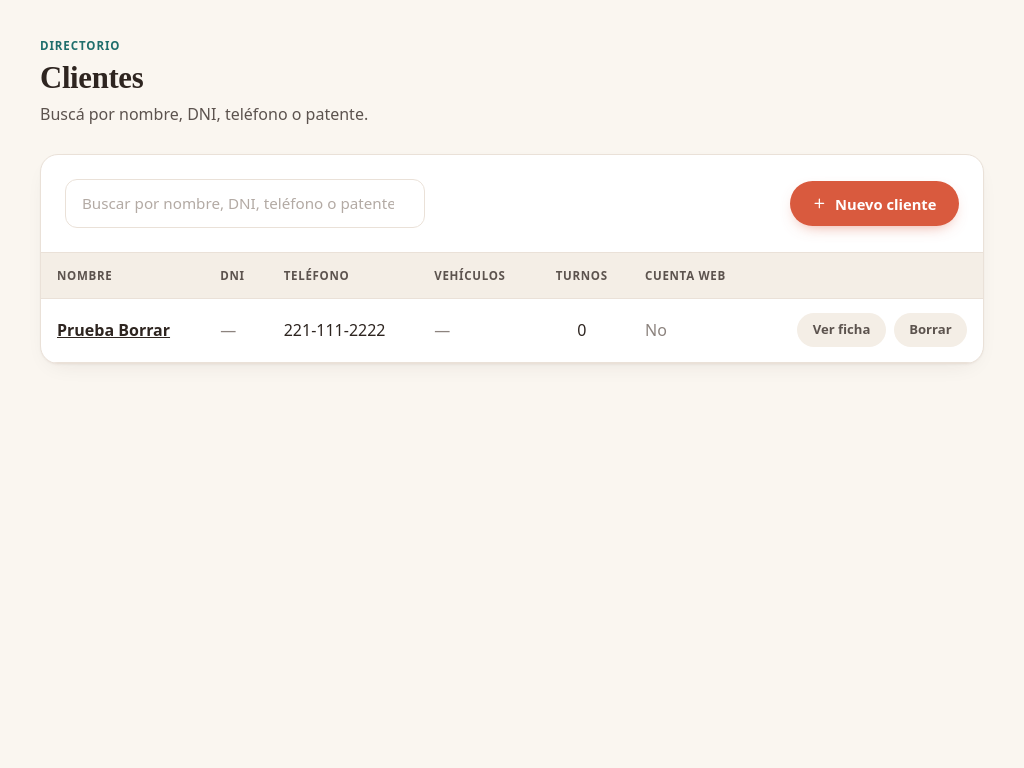
Test case: Clientes: confirmar antes de borrar (Dado / Cuando / Entonces) › Dado el diálogo de confirmación, Cuando elige "No, volver", Entonces no se borra nada
This screenshot has width=1024, height=768.
Click the button "Borrar" at x=930, y=330, box x1=894 y1=313 x2=967 y2=347
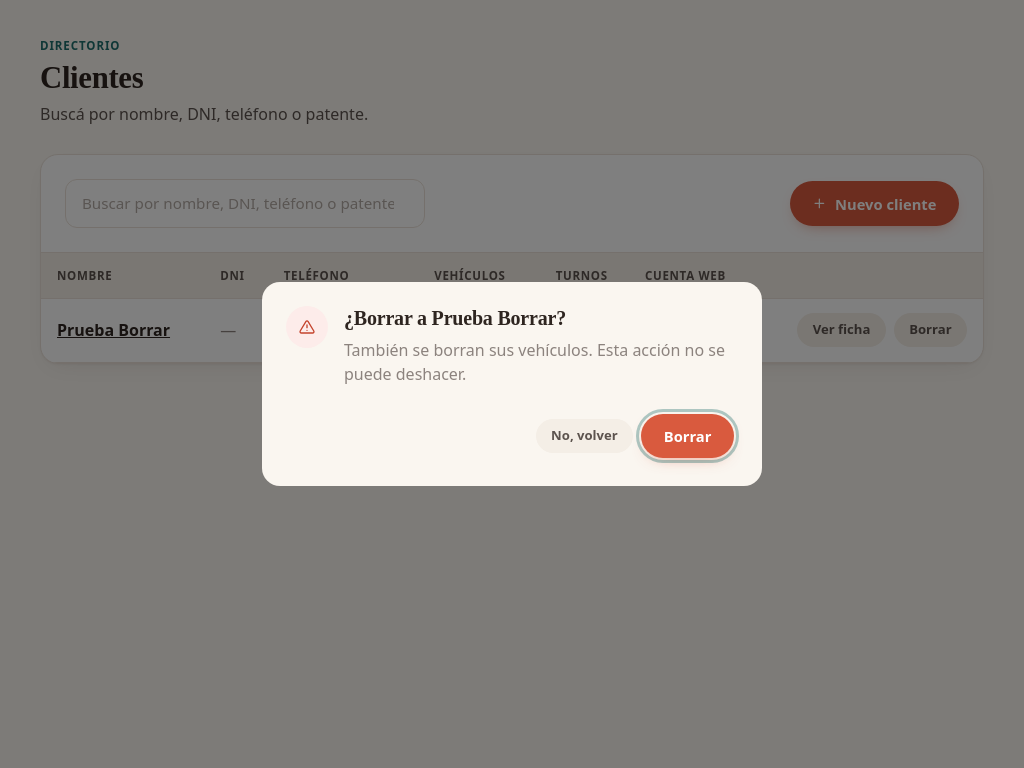
Expected: the heading "¿Borrar a Prueba Borrar?" is shown, x1=344 y1=307 x2=566 y2=329
Click the button "No, volver" at x=584, y=436, box x1=536 y1=419 x2=633 y2=453
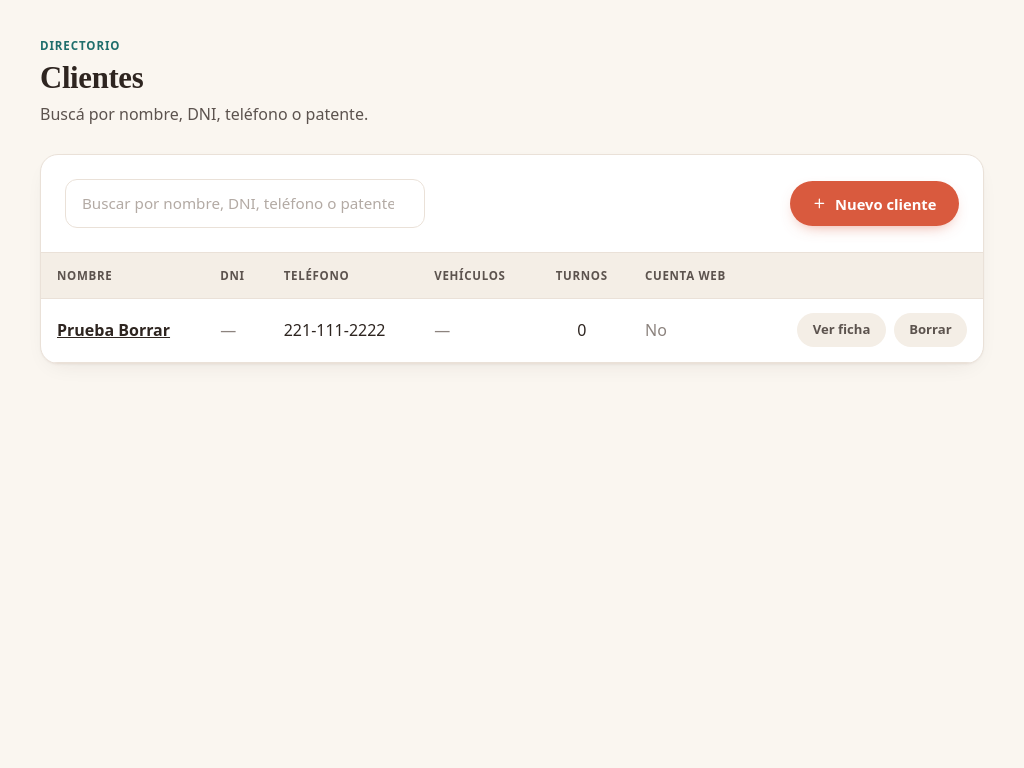
Expected: the heading "¿Borrar a Prueba Borrar?" is gone
